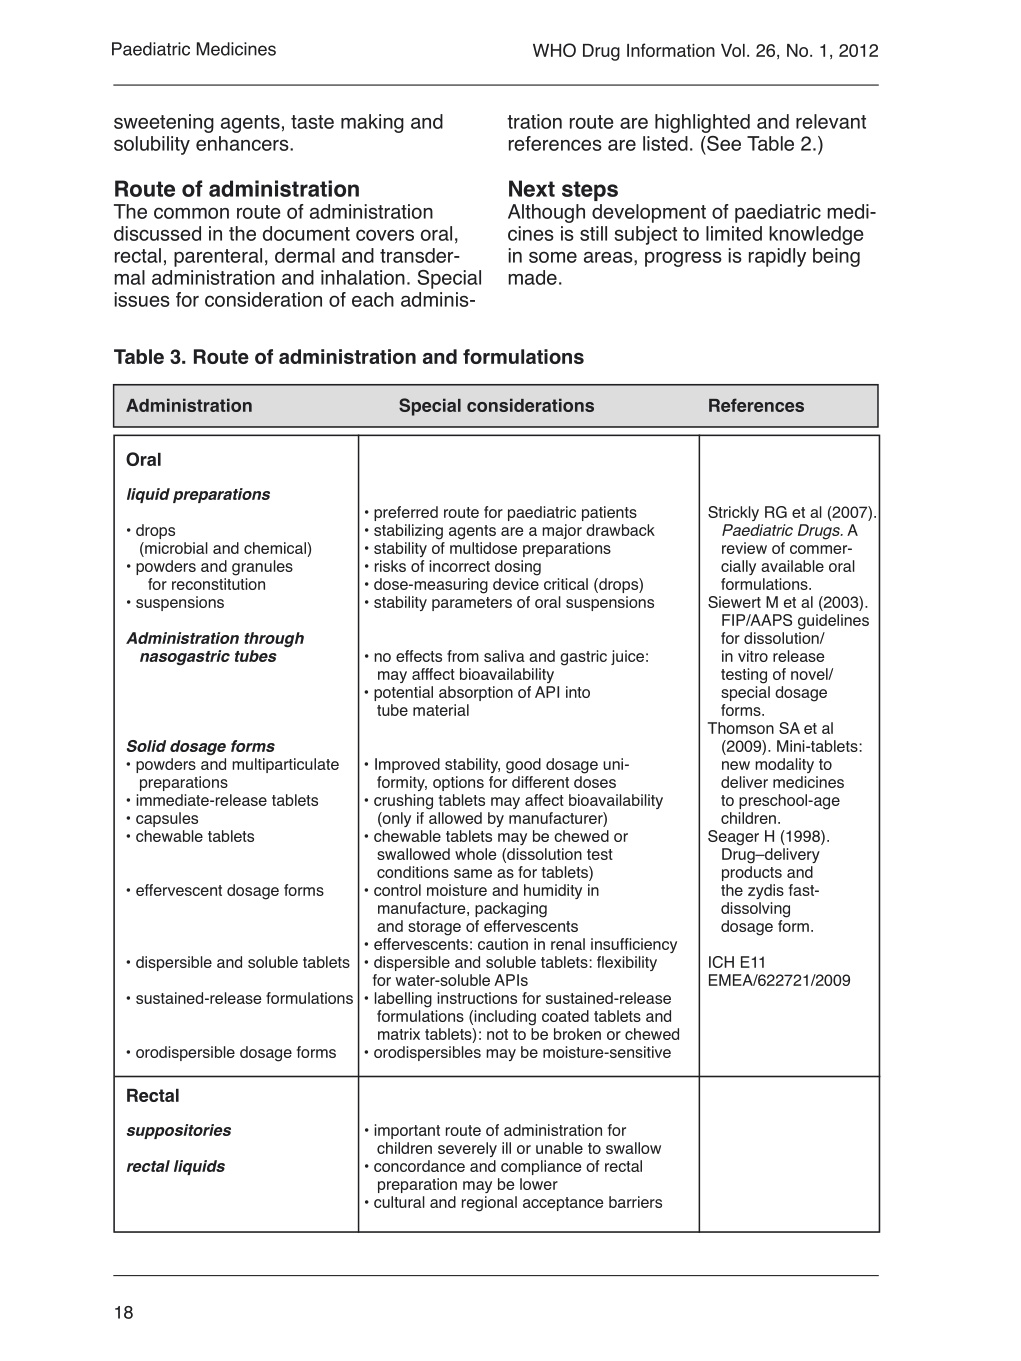full_lined: (113, 434, 881, 1233)
